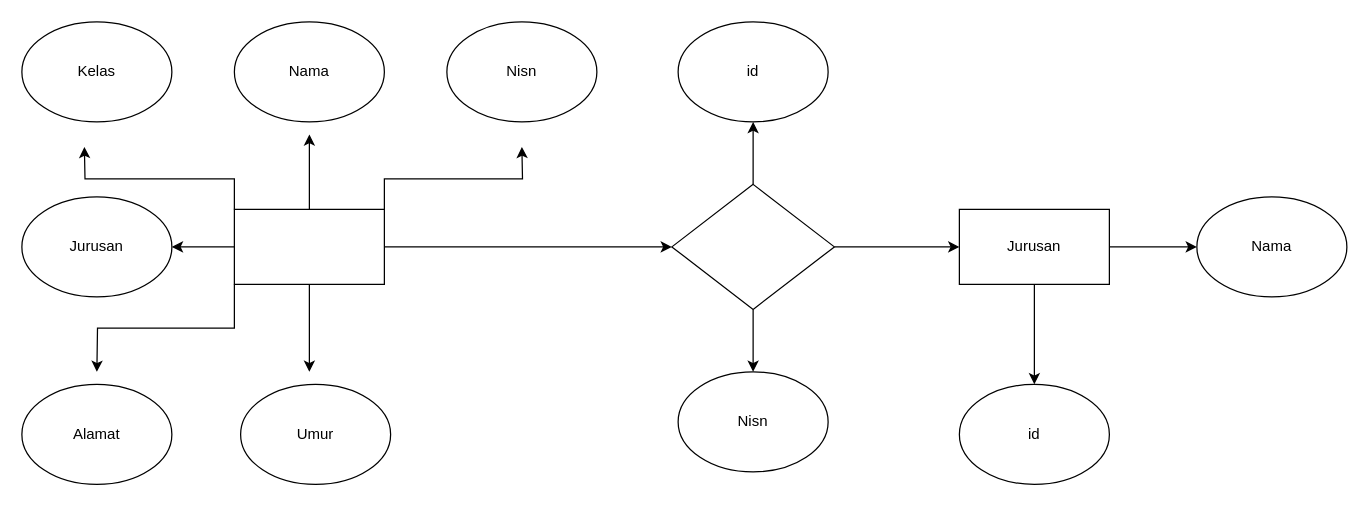
The diagram is 1369 pixels wide and 506 high, and some of its shapes have lost their labels. Each missing label, with the centre of its shape:
"Memiliki" belongs at point (752, 246).
"Murid" belongs at point (308, 246).
